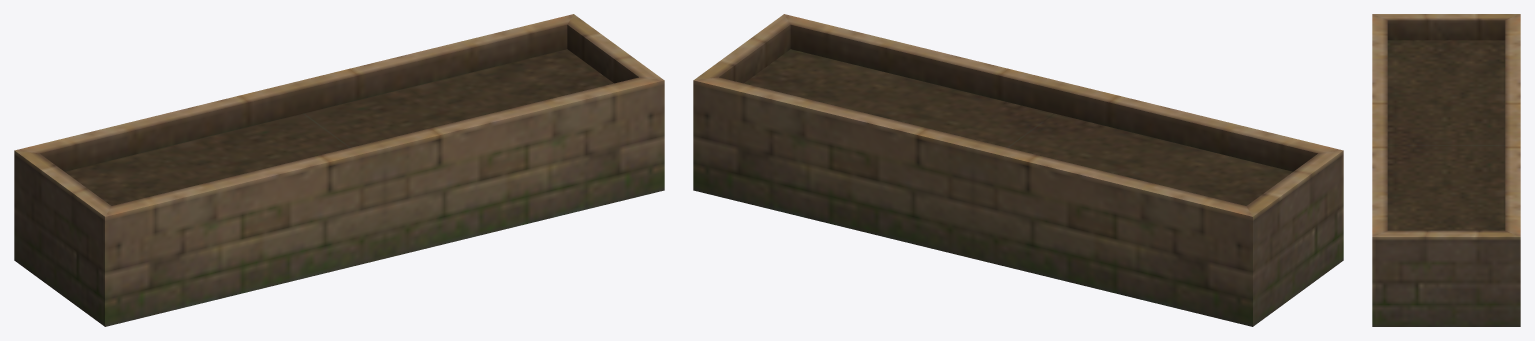
File: zc_lekesigang_huatan01.FBX
3 renders of one model, left to right at view 1: azimuth 30°, elevation 25°; view 2: azimuth 150°, elevation 25°; view 3: azimuth 270°, elevation 25°, orthographic. The views are drawn at different scales.
Visible parts, largest first — view 1: zc_lekesigang_huatan01; view 2: zc_lekesigang_huatan01; view 3: zc_lekesigang_huatan01.
Part boxes in pixels (x1,y1,x2,y2): zc_lekesigang_huatan01: (14,14,664,326); zc_lekesigang_huatan01: (693,14,1343,326); zc_lekesigang_huatan01: (1372,14,1520,326).
Bounding box in the file's own units: 876 × 165 × 246.
Materials: 1 (1 with a texture image).
